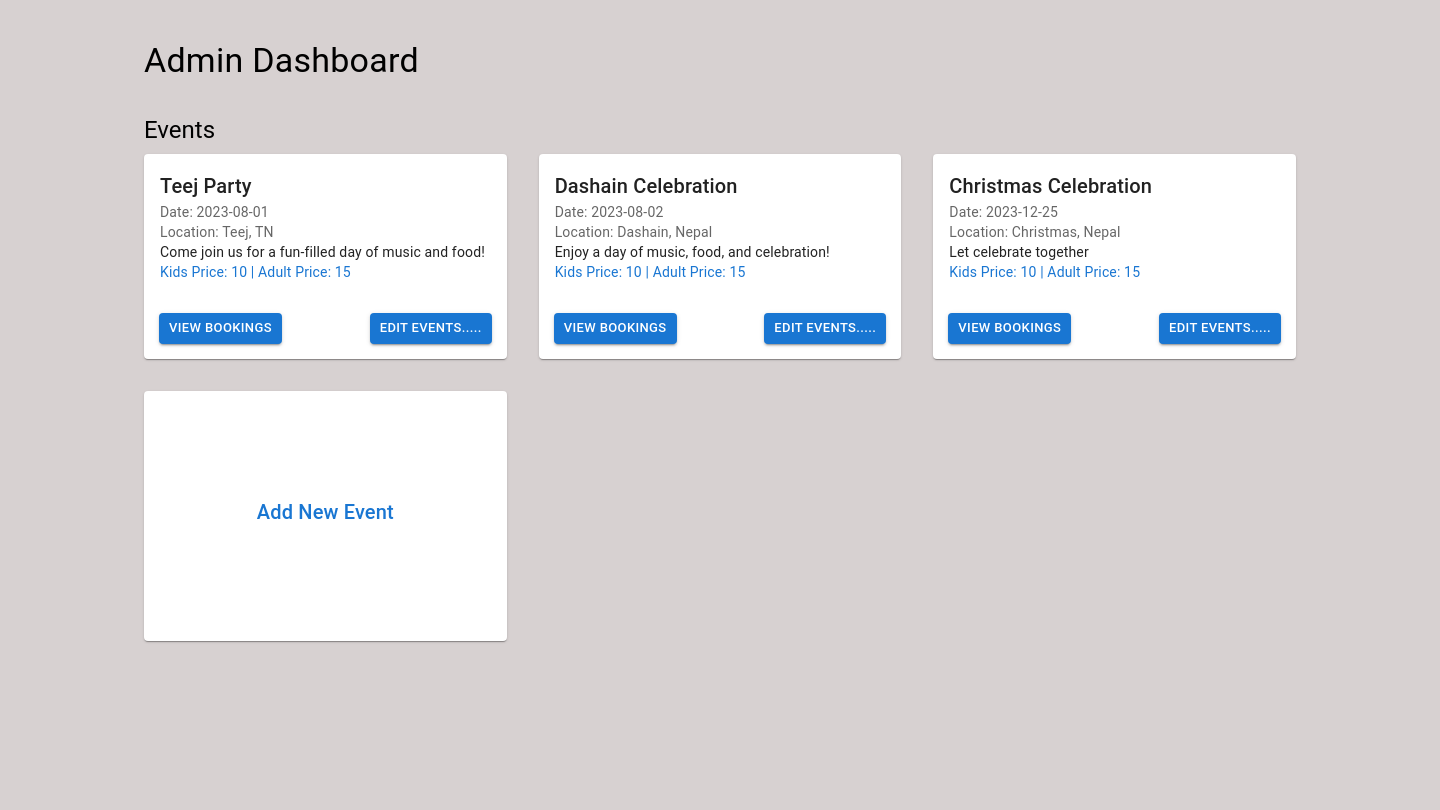
Add Event Functionality › should add a new event when form is submitted with valid data
The width and height of the screenshot is (1440, 810).
expect the heading "Teej Party" is shown: met, box [160,174,252,198]
Click the element with test id "add-event-button" at {"x": 325, "y": 512}, box [257,500,394,524]
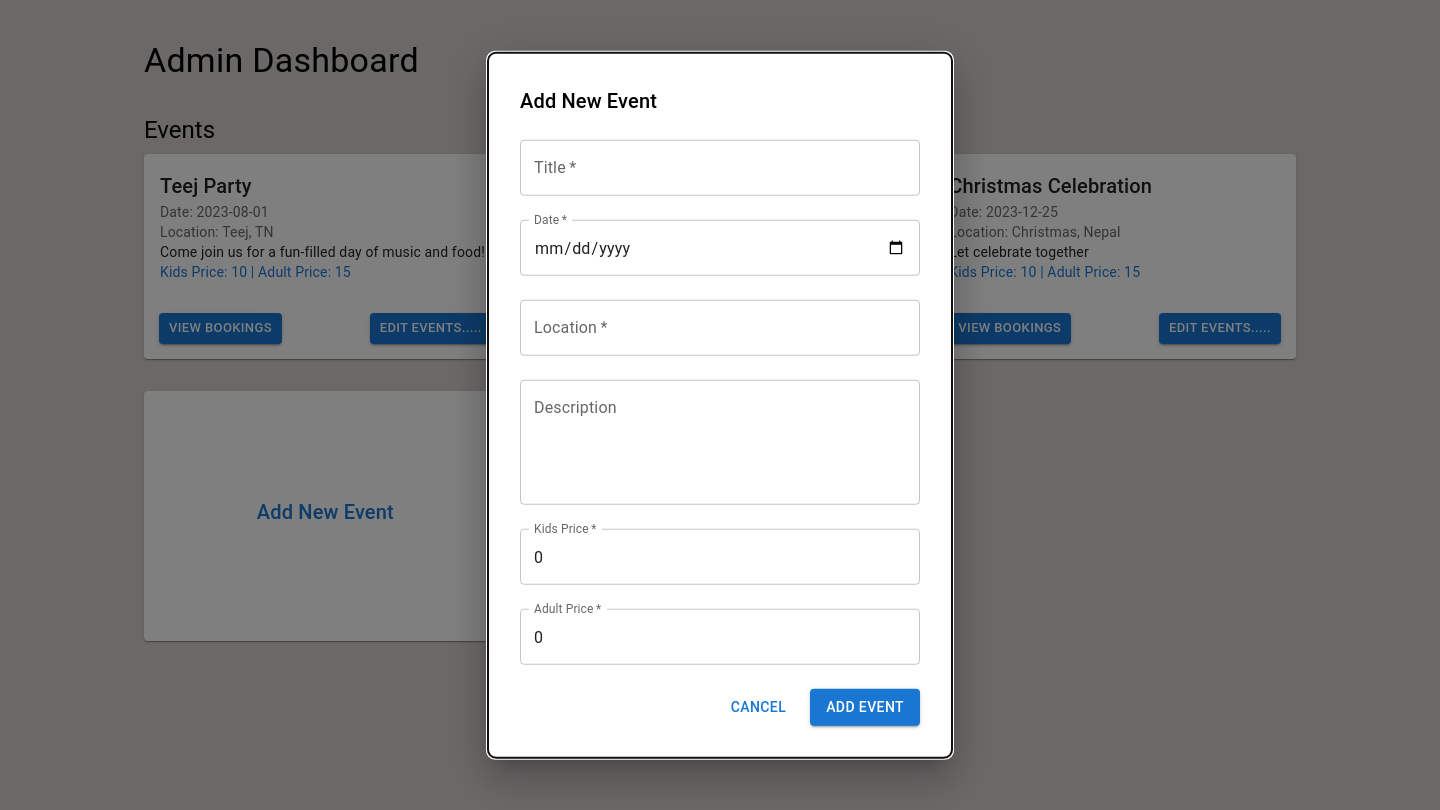
expect the element with test id "add-event-modal" is shown: met
Type "Test Event" into the field labelled "Title *" at {"x": 720, "y": 168}, box [520,140,920,196]
Type "2024-12-25" into the date field labelled "Date *" at {"x": 720, "y": 248}, box [520,220,920,276]
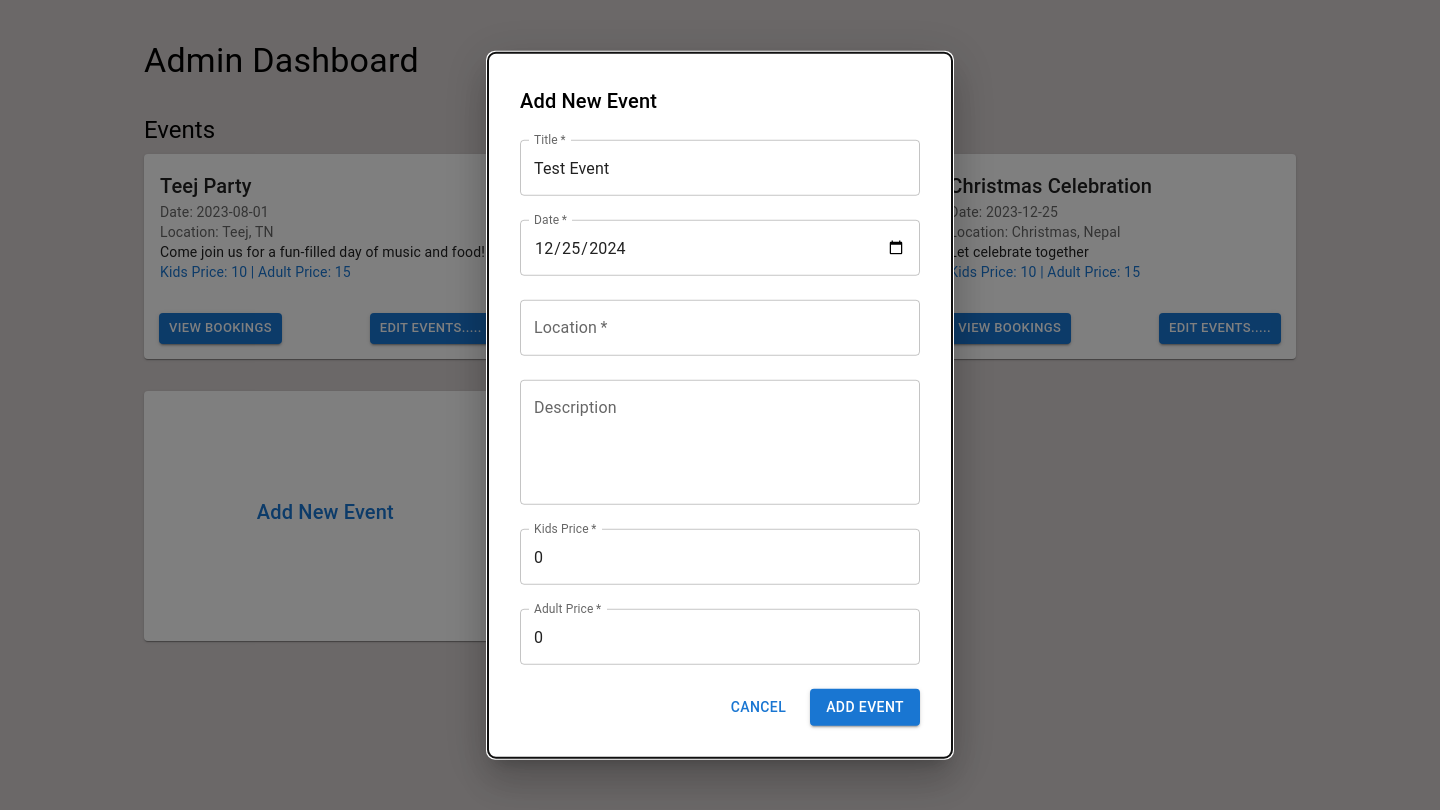
Type "Test Location" into the field labelled "Location *" at {"x": 720, "y": 328}, box [520,300,920,356]
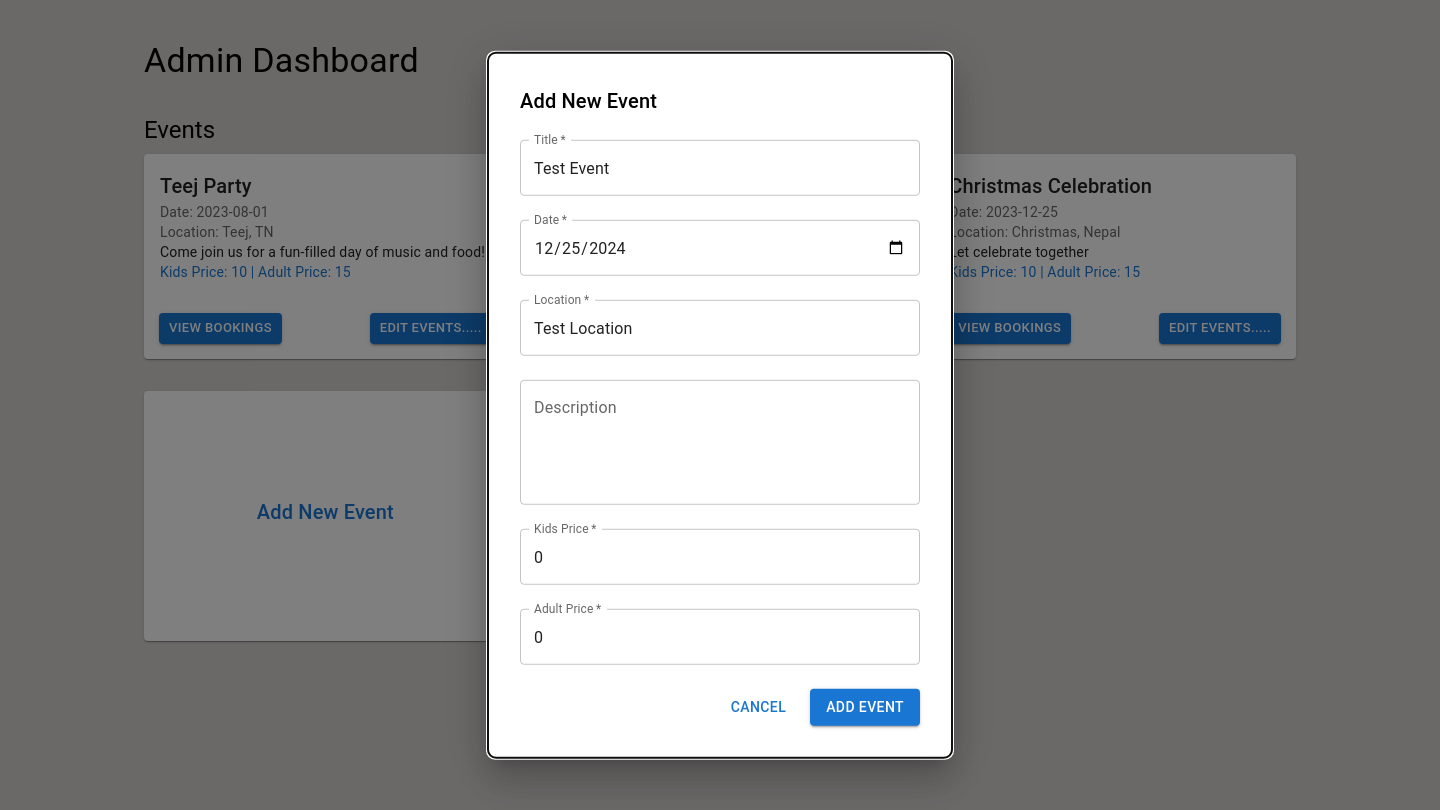
Replace the text in the number field labelled "Kids Price *" with "10" at {"x": 720, "y": 557}, box [520,529,920,585]
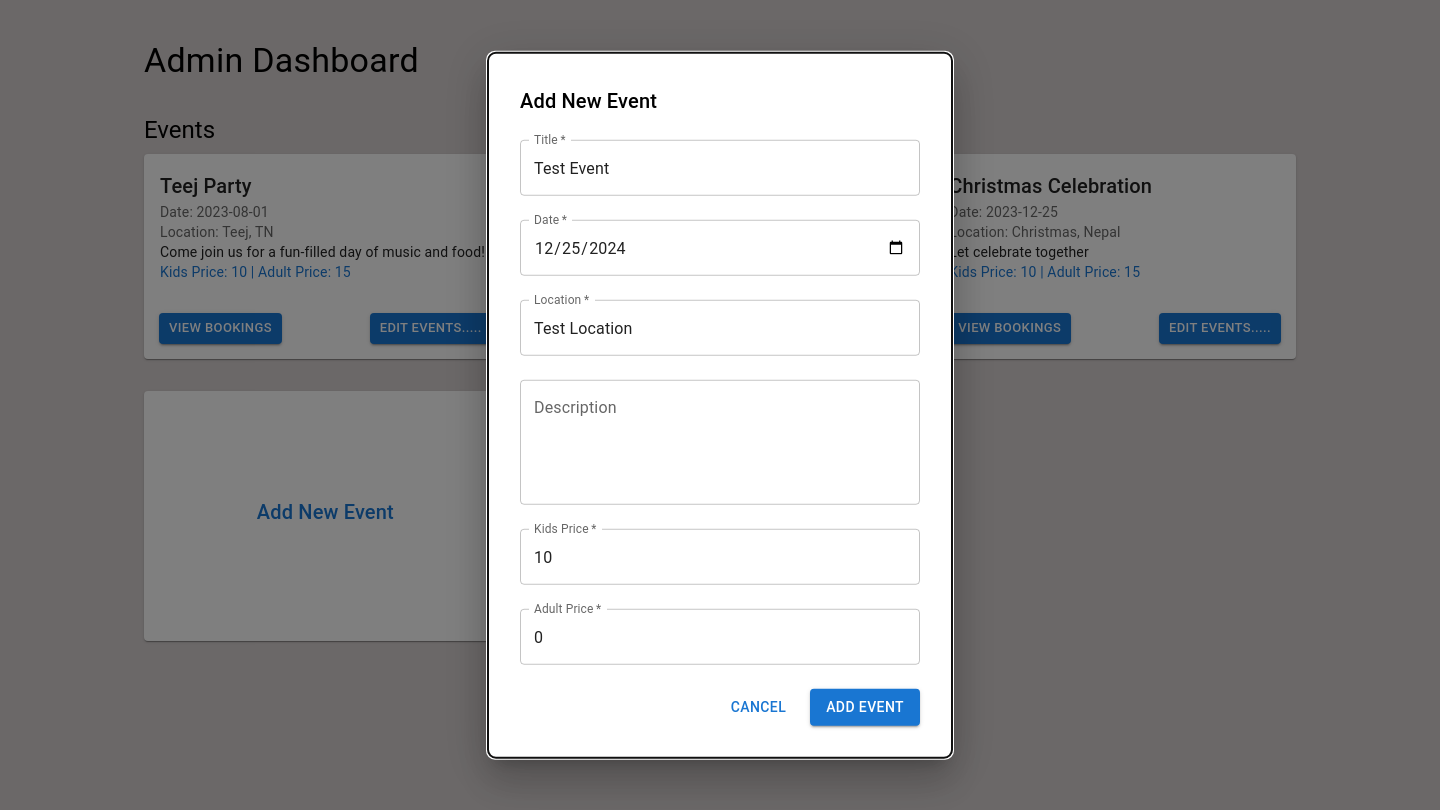
Replace the text in the number field labelled "Adult Price *" with "20" at {"x": 720, "y": 637}, box [520,609,920,665]
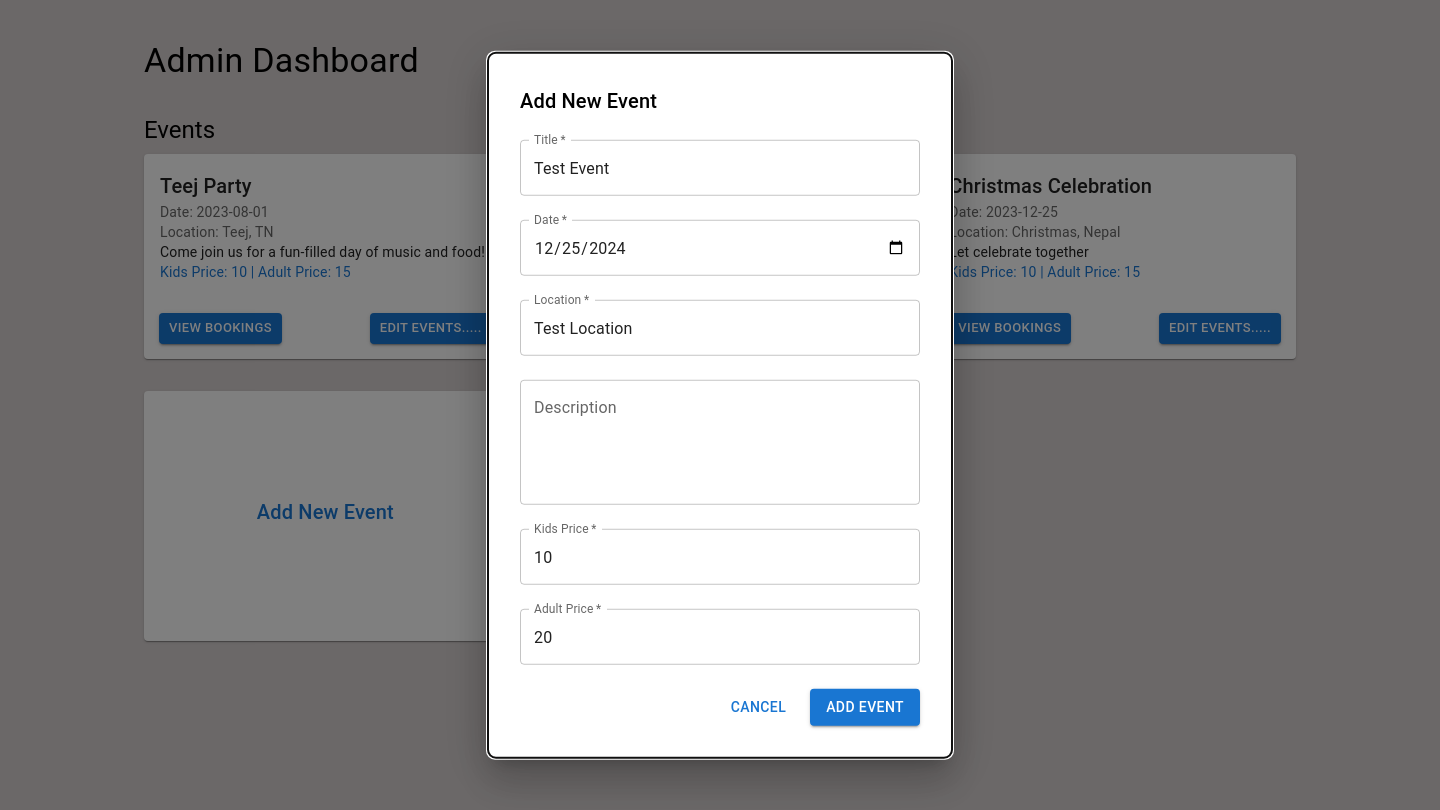
Click the button with test id "submit-button" at {"x": 865, "y": 707}, box [810,689,920,725]
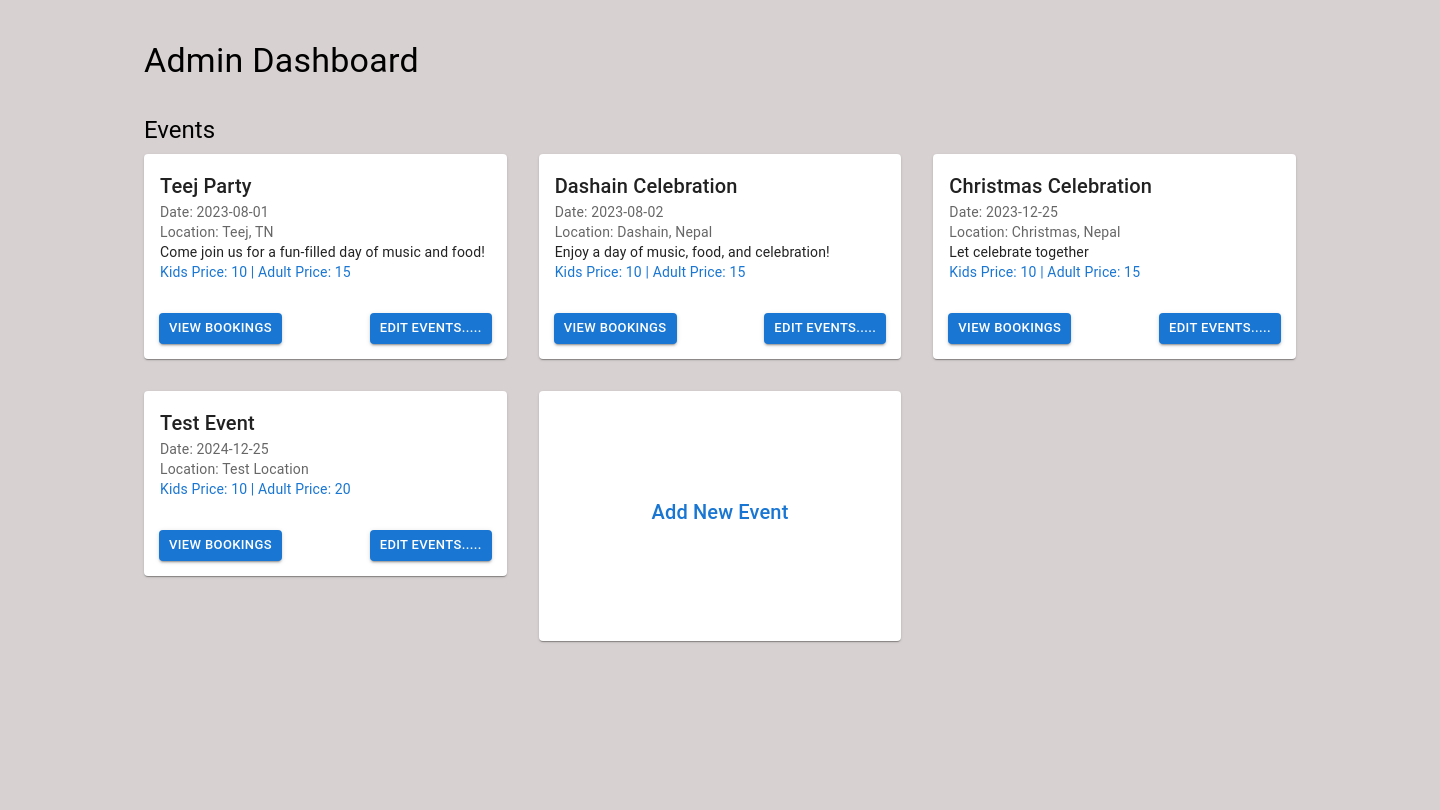
expect the heading "Test Event" is shown: met, box [160,411,255,435]
